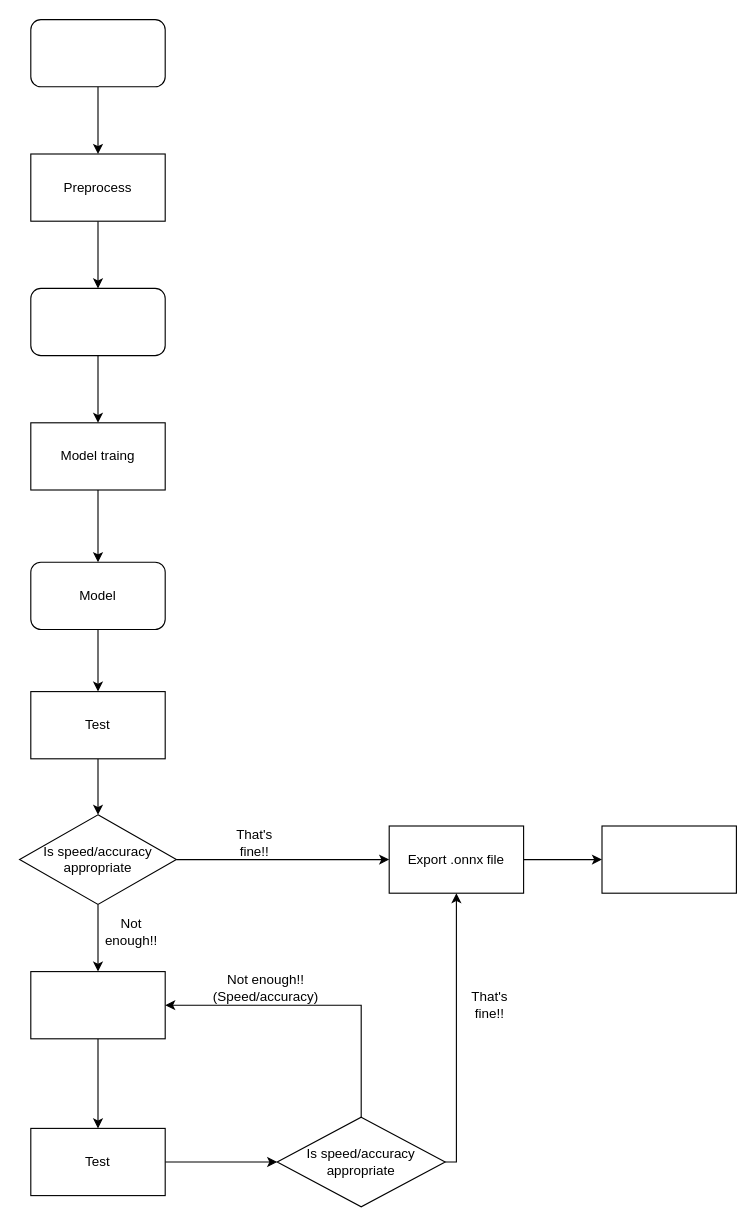
Image size: 756x1226. Some labels were removed from this diagram. Here are the shapes that lost their labels. From the top down, the box of each, then its label:
(30, 18, 165, 87): Images dataset
(30, 287, 165, 356): Dataset for learning
(601, 825, 736, 893): Inference on .cpp
(30, 970, 165, 1039): Model pruning
